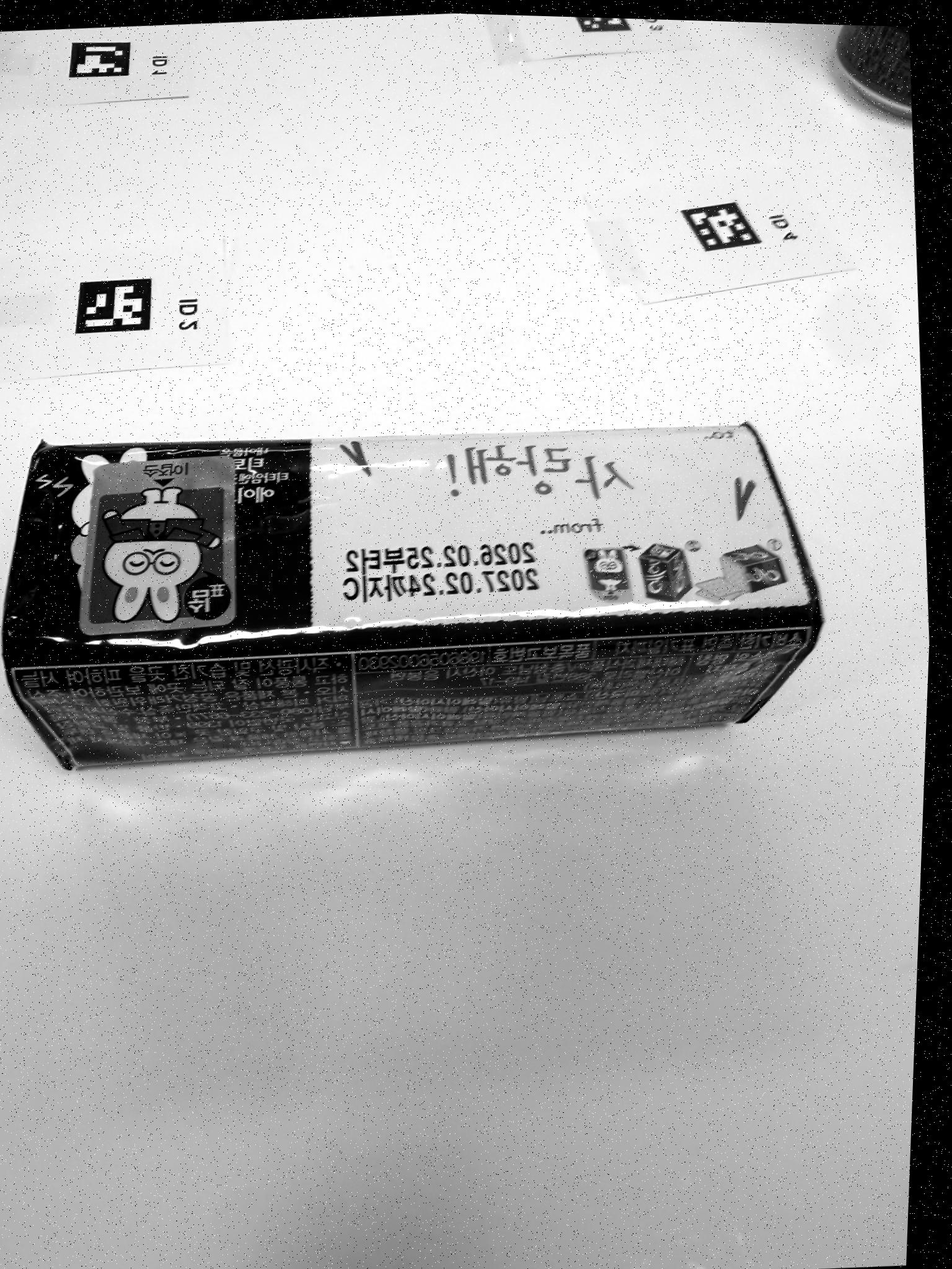cracker_ace: (4, 423, 820, 768)
